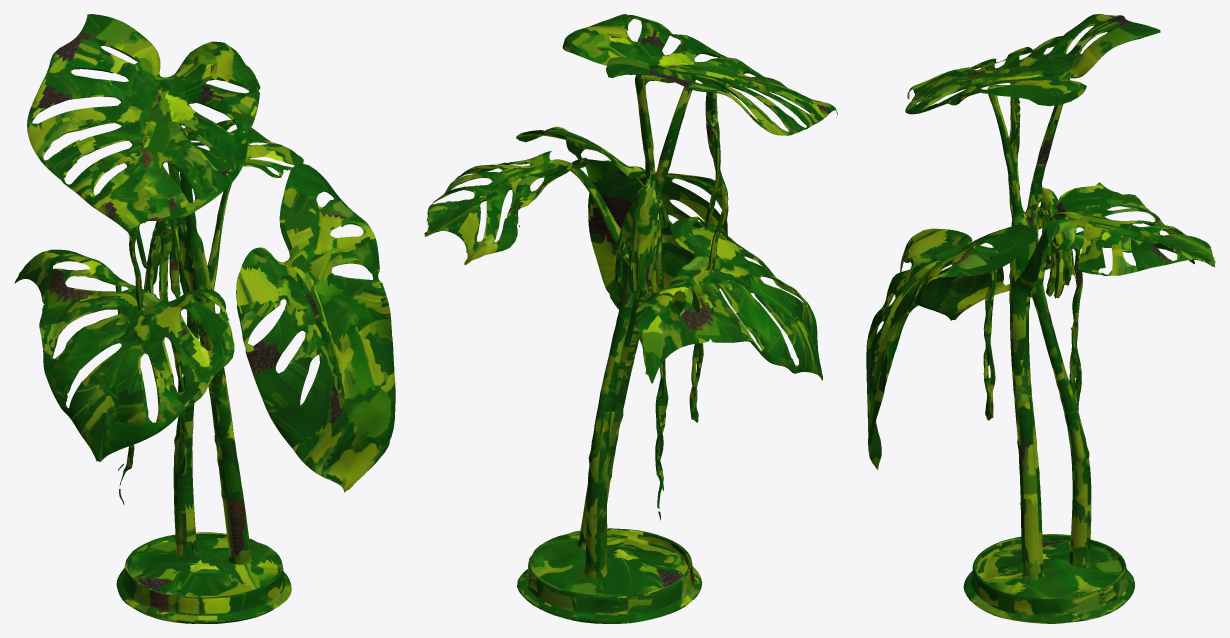
File: veg_tropical_monstera_01.obj
The picture shows the model from 3 angles, left to right: view 1: azimuth 30°, elevation 25°; view 2: azimuth 150°, elevation 25°; view 3: azimuth 270°, elevation 25°; orthographic projection. The views are drawn at different scales.
Visible parts, largest first — view 1: veg_tropical_monstera_01; view 2: veg_tropical_monstera_01; view 3: veg_tropical_monstera_01.
Part boxes in pixels (x1,y1,x2,y2): veg_tropical_monstera_01: (14, 14, 395, 623); veg_tropical_monstera_01: (424, 14, 837, 623); veg_tropical_monstera_01: (866, 14, 1215, 623).
Size of the model in its own units: 1.68 by 3.02 by 1.8.
Materials: 1 (1 with a texture image).
